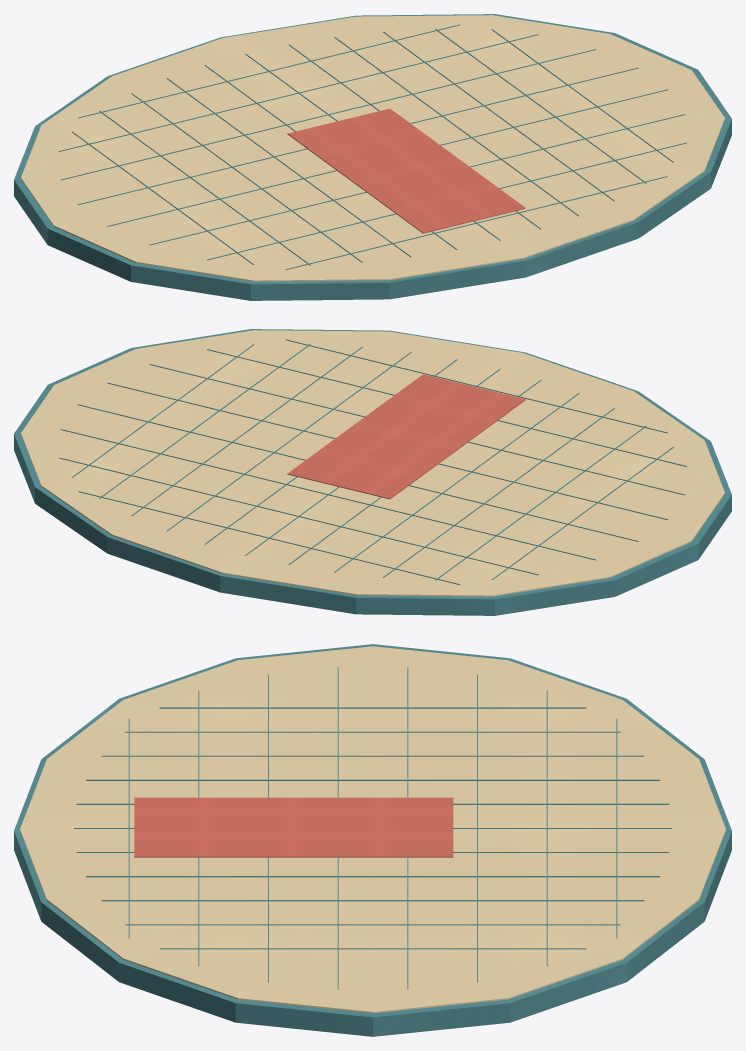
File: atlas100-s074-a07.glb
3 views of the same model, one above another, from view 1: azimuth 30°, elevation 25°; view 2: azimuth 150°, elevation 25°; view 3: azimuth 270°, elevation 25° (orthographic). The views are drawn at different scales.
Parts seen in each view (by area): view 1: atlas100-s074-a07:part-001, atlas100-s074-a07:part-000, atlas100-s074-a07:part-021, atlas100-s074-a07:part-015, atlas100-s074-a07:part-014, atlas100-s074-a07:part-017, atlas100-s074-a07:part-016, atlas100-s074-a07:part-018, atlas100-s074-a07:part-013, atlas100-s074-a07:part-020, atlas100-s074-a07:part-019, atlas100-s074-a07:part-005 (+1 smaller); view 2: atlas100-s074-a07:part-001, atlas100-s074-a07:part-000, atlas100-s074-a07:part-021, atlas100-s074-a07:part-015, atlas100-s074-a07:part-014, atlas100-s074-a07:part-016, atlas100-s074-a07:part-017, atlas100-s074-a07:part-018, atlas100-s074-a07:part-013, atlas100-s074-a07:part-020, atlas100-s074-a07:part-019, atlas100-s074-a07:part-005 (+1 smaller); view 3: atlas100-s074-a07:part-001, atlas100-s074-a07:part-000, atlas100-s074-a07:part-021, atlas100-s074-a07:part-005, atlas100-s074-a07:part-009, atlas100-s074-a07:part-004, atlas100-s074-a07:part-010, atlas100-s074-a07:part-003, atlas100-s074-a07:part-011, atlas100-s074-a07:part-002, atlas100-s074-a07:part-012.
Boxes of the visible parts, x1,y1,x2,y2 form: atlas100-s074-a07:part-001: (21, 15, 724, 281); atlas100-s074-a07:part-000: (14, 14, 731, 300); atlas100-s074-a07:part-021: (287, 108, 525, 233); atlas100-s074-a07:part-015: (61, 49, 596, 180); atlas100-s074-a07:part-014: (59, 34, 538, 151); atlas100-s074-a07:part-017: (107, 89, 668, 226); atlas100-s074-a07:part-016: (77, 67, 638, 204); atlas100-s074-a07:part-018: (150, 114, 685, 245); atlas100-s074-a07:part-013: (78, 24, 459, 118); atlas100-s074-a07:part-020: (285, 176, 667, 269); atlas100-s074-a07:part-019: (207, 142, 686, 260); atlas100-s074-a07:part-005: (166, 78, 411, 257); atlas100-s074-a07:part-001: (21, 330, 724, 596); atlas100-s074-a07:part-000: (14, 329, 731, 615); atlas100-s074-a07:part-021: (287, 374, 525, 499); atlas100-s074-a07:part-015: (60, 429, 595, 560); atlas100-s074-a07:part-014: (59, 457, 538, 575); atlas100-s074-a07:part-016: (77, 404, 638, 541); atlas100-s074-a07:part-017: (107, 382, 668, 519); atlas100-s074-a07:part-018: (149, 364, 684, 495); atlas100-s074-a07:part-013: (78, 491, 460, 584); atlas100-s074-a07:part-020: (286, 339, 667, 433); atlas100-s074-a07:part-019: (207, 349, 686, 466); atlas100-s074-a07:part-005: (334, 393, 579, 572); atlas100-s074-a07:part-001: (20, 646, 725, 1013); atlas100-s074-a07:part-000: (14, 644, 731, 1036); atlas100-s074-a07:part-021: (134, 797, 453, 857); atlas100-s074-a07:part-005: (86, 779, 659, 780); atlas100-s074-a07:part-009: (86, 876, 659, 877); atlas100-s074-a07:part-004: (101, 755, 644, 756); atlas100-s074-a07:part-010: (101, 900, 644, 901); atlas100-s074-a07:part-003: (125, 731, 620, 732); atlas100-s074-a07:part-011: (125, 924, 620, 925); atlas100-s074-a07:part-002: (159, 707, 586, 708); atlas100-s074-a07:part-012: (159, 948, 586, 949).
Size of the model in its own units: 13.95 by 0.404 by 11.34.
Materials: 3 (3 with a texture image).
